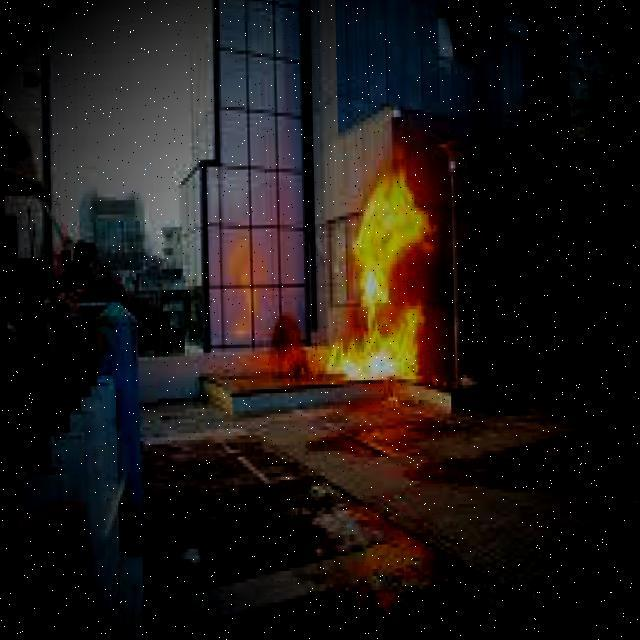Fire: (322, 157, 454, 390)
